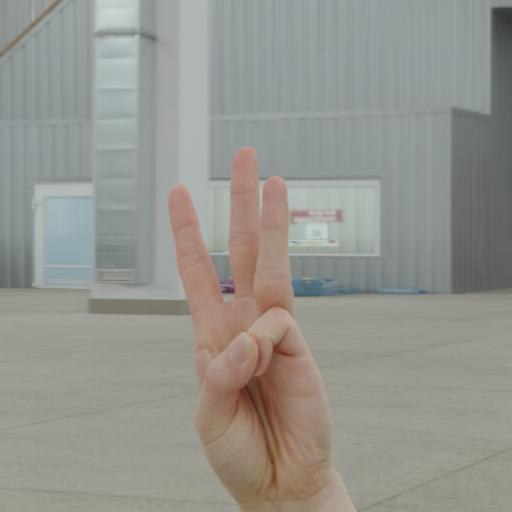W: (164, 143, 337, 498)
